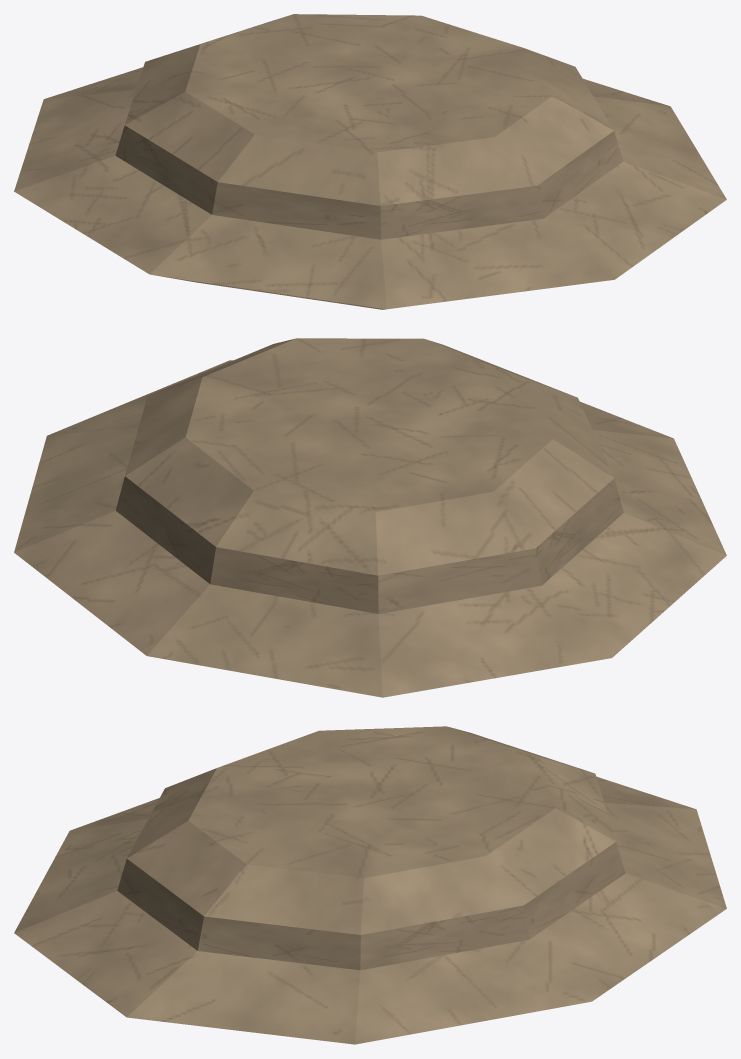
File: prop_rock_c.obj
3 views of the same model, one above another, from view 1: azimuth 30°, elevation 25°; view 2: azimuth 150°, elevation 25°; view 3: azimuth 270°, elevation 25° (orthographic). The views are drawn at different scales.
Parts seen in each view (by area): view 1: prop_rock_c; view 2: prop_rock_c; view 3: prop_rock_c.
Part boxes in pixels (<box>): prop_rock_c: <box>14,14,726,309</box>; prop_rock_c: <box>14,338,726,697</box>; prop_rock_c: <box>14,726,726,1044</box>.
Bounding box in the file's own units: 3.98 × 1.21 × 4.07.
1 material, 1 textured.
